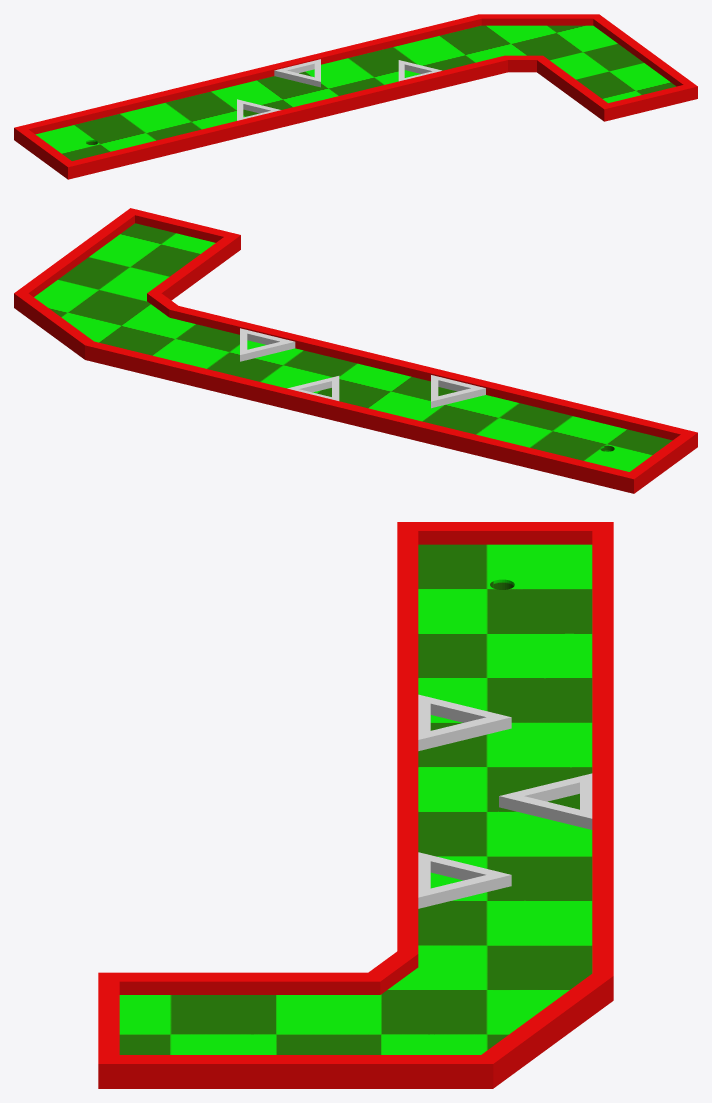
The model's file is Track9.fbx.
The picture shows the model from 3 angles, top to bottom: view 1: azimuth 30°, elevation 25°; view 2: azimuth 150°, elevation 25°; view 3: azimuth 270°, elevation 25°; orthographic projection. The views are drawn at different scales.
Parts seen in each view (by area): view 1: Track9_Track, Track9_Boundary, Track9_Extras; view 2: Track9_Track, Track9_Boundary, Track9_Extras; view 3: Track9_Track, Track9_Boundary, Track9_Extras.
Part boxes in pixels (bbox=[...]): Track9_Track: bbox=[35, 25, 676, 160]; Track9_Boundary: bbox=[14, 14, 697, 179]; Track9_Extras: bbox=[237, 59, 441, 120]; Track9_Track: bbox=[34, 223, 672, 471]; Track9_Boundary: bbox=[14, 208, 697, 493]; Track9_Extras: bbox=[240, 328, 485, 408]; Track9_Track: bbox=[119, 544, 592, 1054]; Track9_Boundary: bbox=[98, 522, 613, 1088]; Track9_Extras: bbox=[418, 694, 592, 908].
Size of the model in its own units: 516 by 11 by 207.
